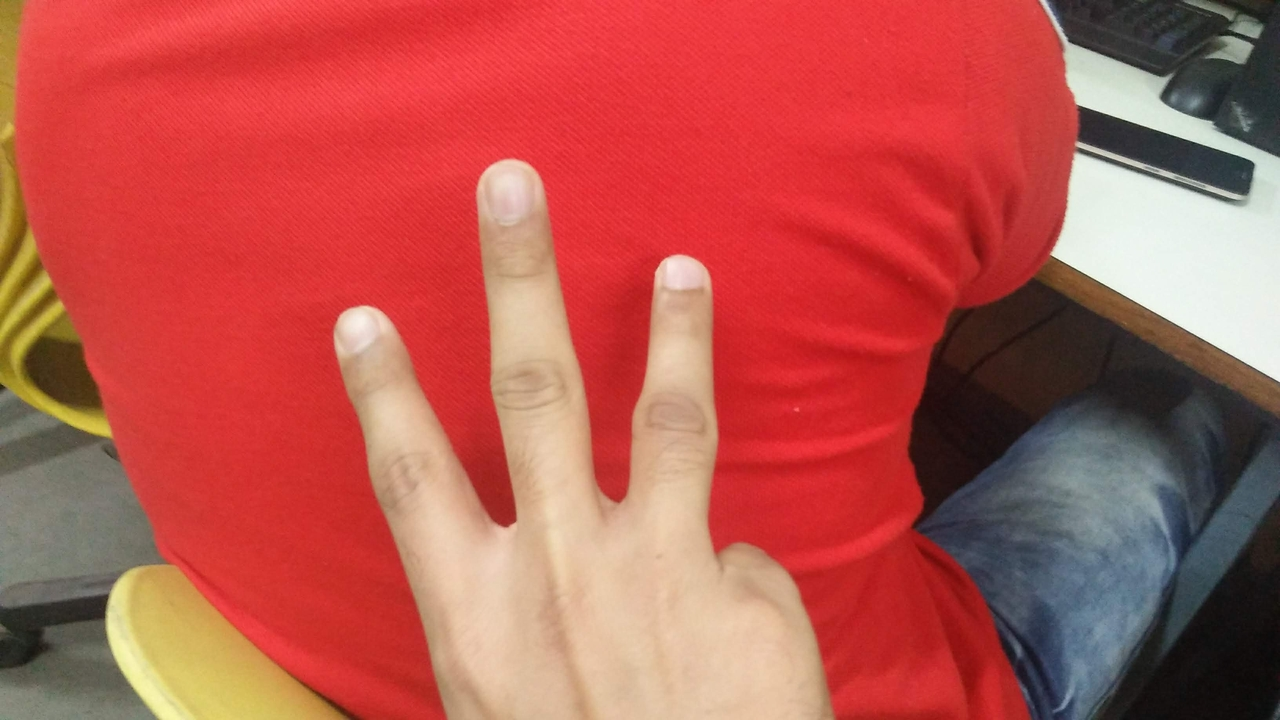fingertip: (322, 300, 400, 370), (468, 158, 544, 226), (644, 246, 716, 312)
